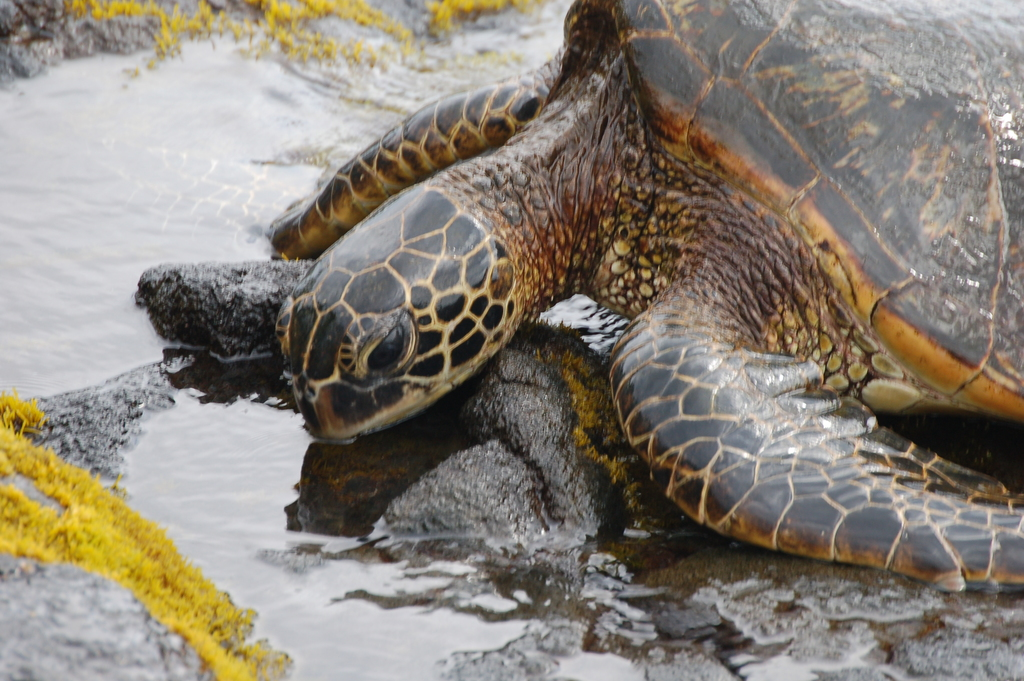Sea turtles: (119, 0, 1023, 591)
